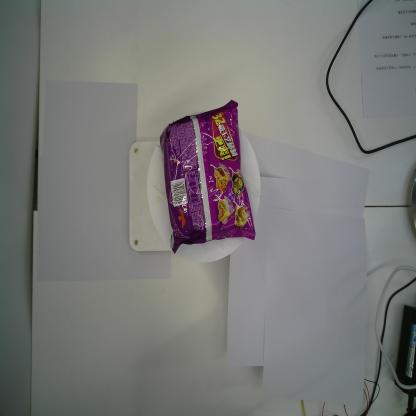Instant Noodles: (160, 100, 256, 256)
